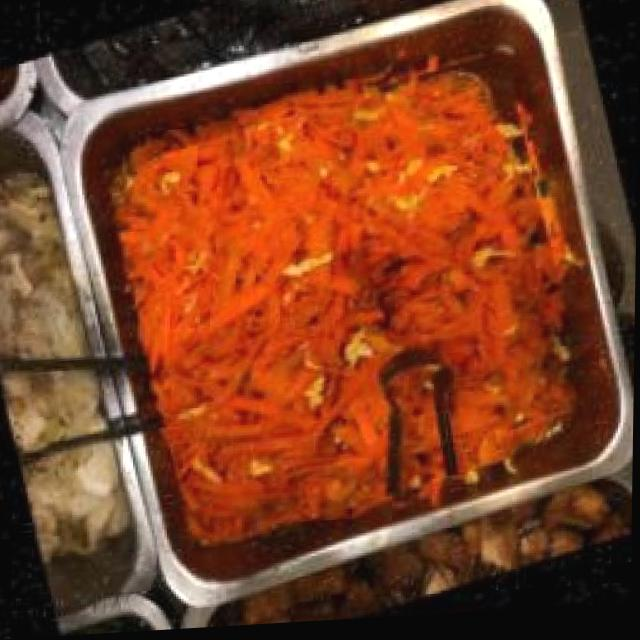carrot_eggs: (101, 50, 602, 568)
chinese_cabbage: (0, 157, 136, 573)
